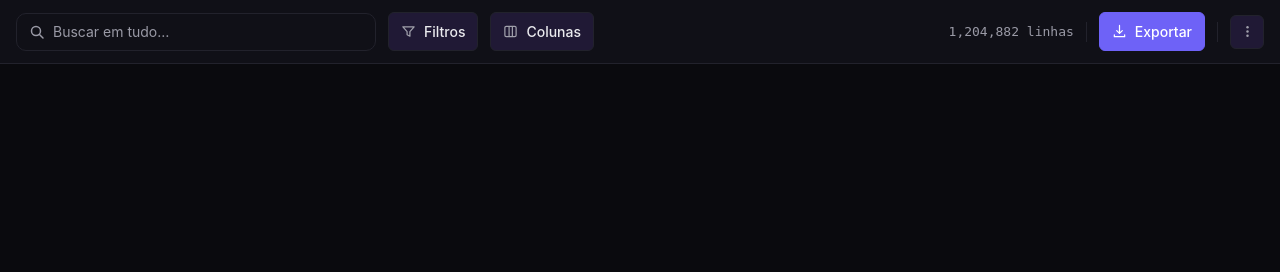
Test: ViewerToolbar › menu "Mais ações" (Salvar nova versão, Salvar, Comparar, Desfazer, Refazer) › RF-09: com canUndo true (e canRedo false), "Desfazer" fica habilitado e "Refazer" desabilitado
Click the button named "Mais ações": (1247, 32) [1230,14,1264,48]
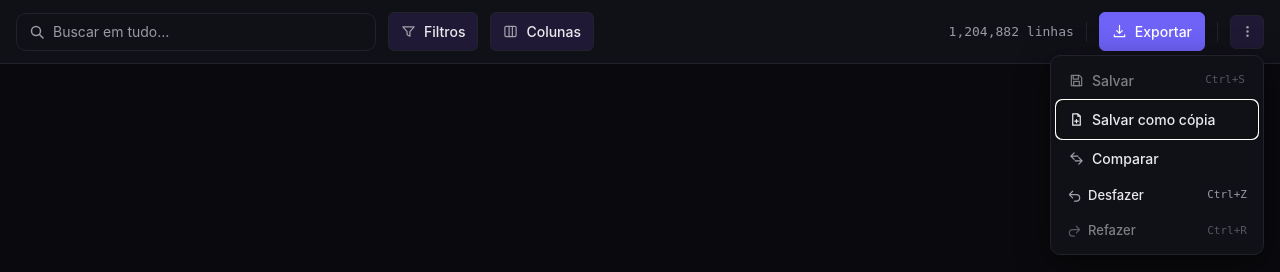
Expected: the button "Desfazer Ctrl+Z" is enabled, [1057,178,1257,212]
Expected: the button "Refazer Ctrl+R" is disabled, [1057,214,1257,248]
